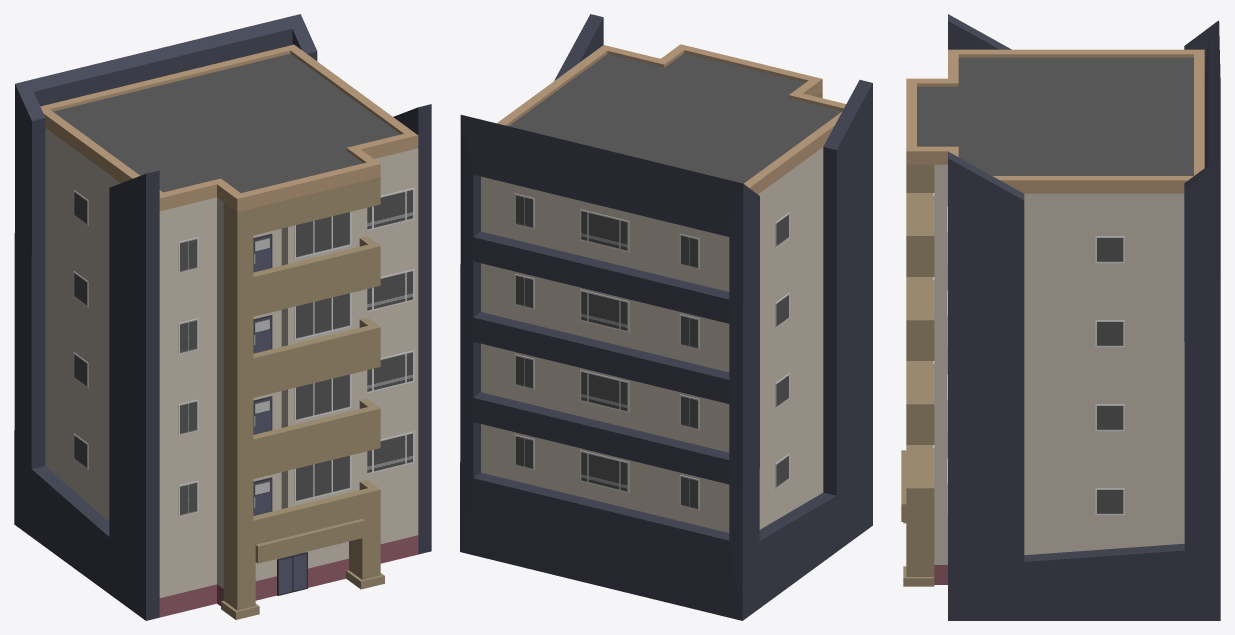
File: building07_color01.fbx
3 renders of one model, left to right at view 1: azimuth 30°, elevation 25°; view 2: azimuth 150°, elevation 25°; view 3: azimuth 270°, elevation 25°, orthographic. The views are drawn at different scales.
Visible parts, largest first — view 1: building07_color01; view 2: building07_color01; view 3: building07_color01.
Part boxes in pixels (bbox=[...]): building07_color01: bbox=[14, 14, 431, 620]; building07_color01: bbox=[460, 14, 872, 620]; building07_color01: bbox=[901, 14, 1220, 620].
Bounding box in the file's own units: 1767 × 2644 × 1654.
